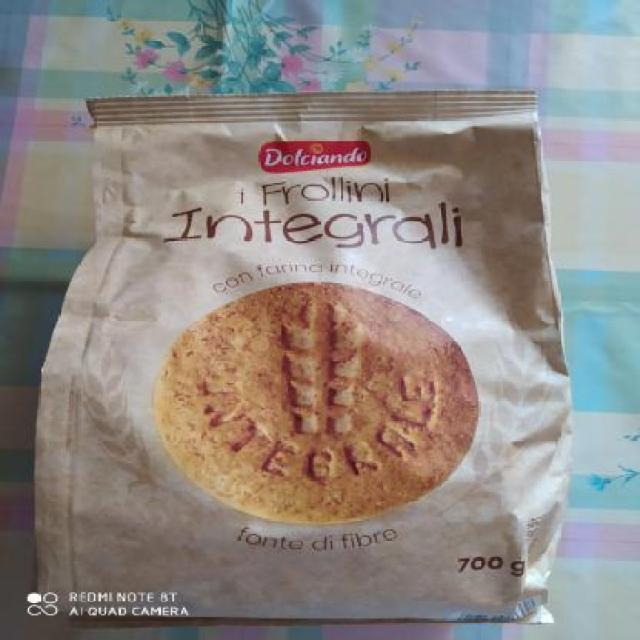Merendine: (29, 95, 568, 622)
